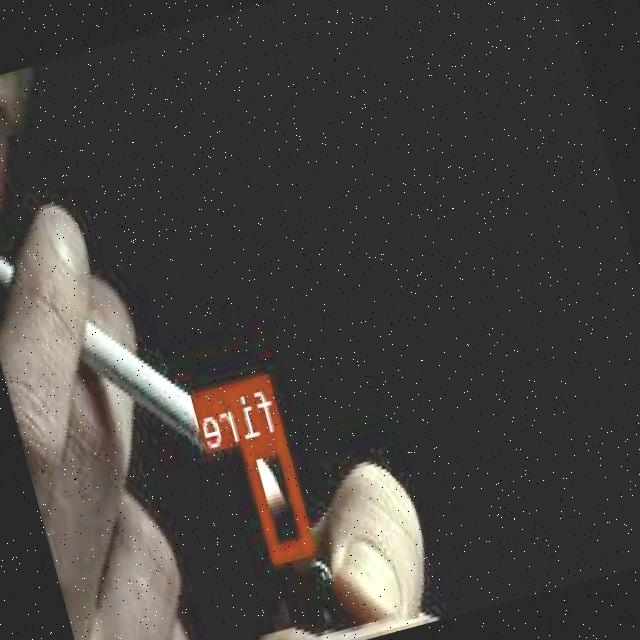fire: (244, 430, 315, 559)
